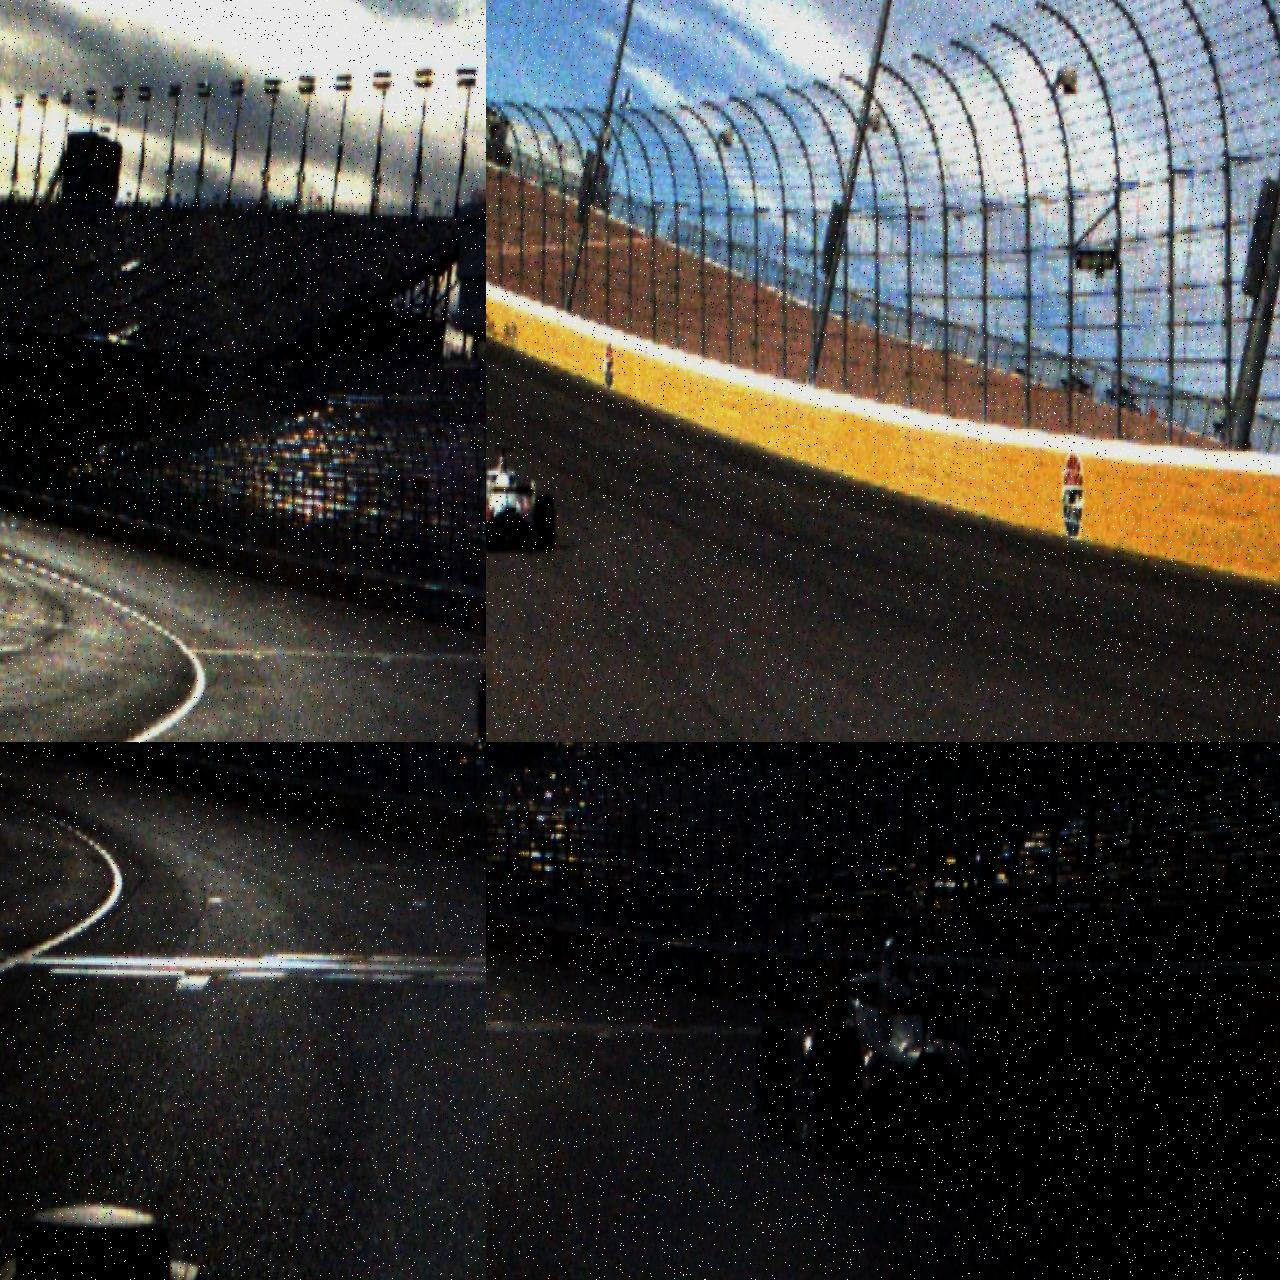AV: (749, 912, 1041, 1162), (486, 445, 557, 554)
Wheel: (804, 1026, 860, 1159), (988, 1029, 1039, 1160), (754, 1024, 792, 1144), (536, 496, 557, 551), (476, 672, 486, 742)
